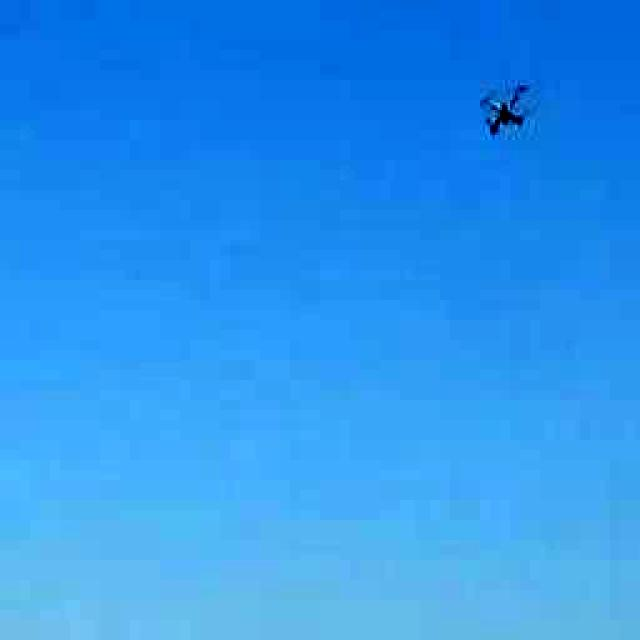bird: (445, 60, 558, 152)
